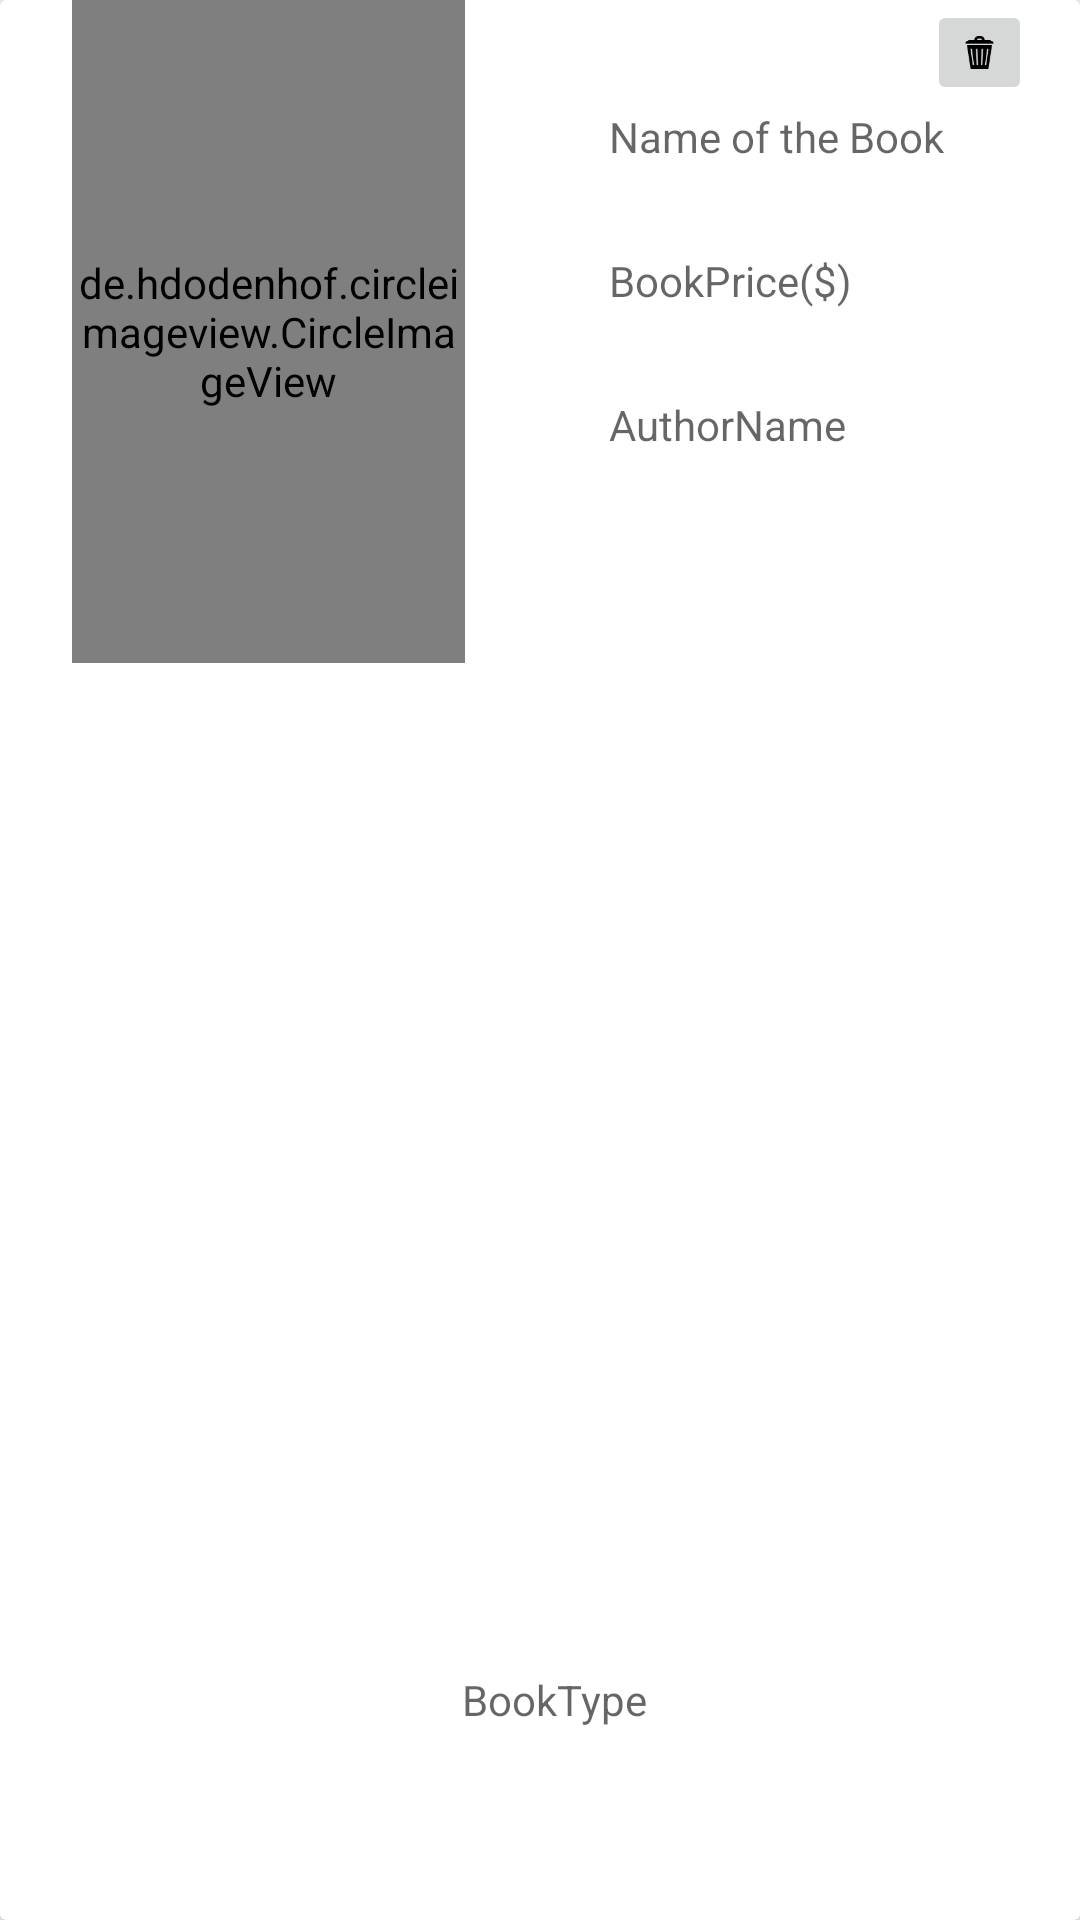

Icon bounding boxes for this 1080w x 1920h phone screenshot, format (x1, y1, x2, y2):
delete: (939, 18, 1020, 87)
